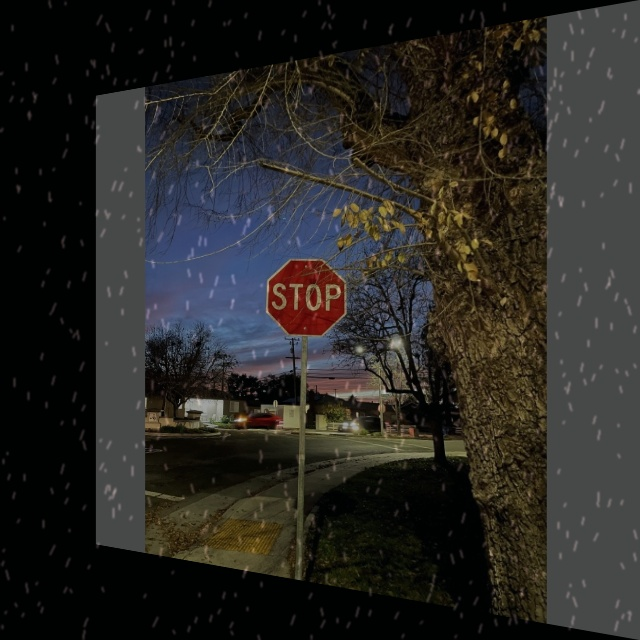Stop: (265, 257, 346, 339)
